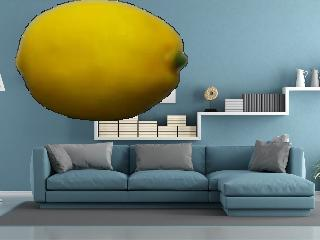lemon: (14, 1, 193, 123)
